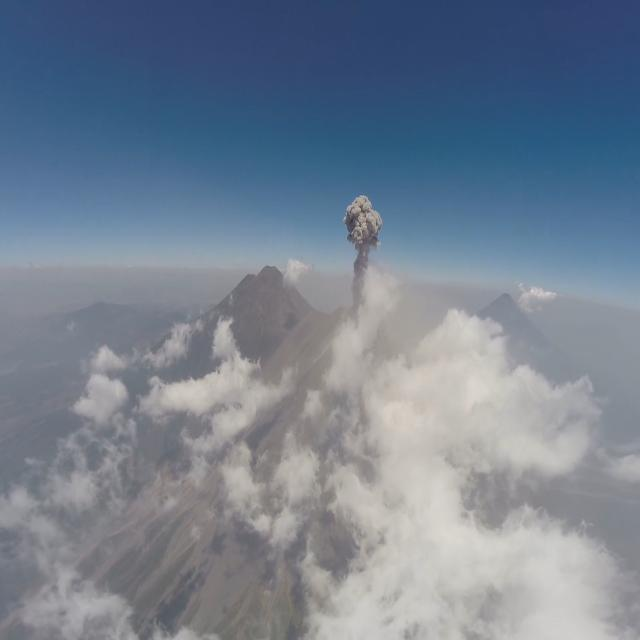Plume: (342, 192, 382, 279)
